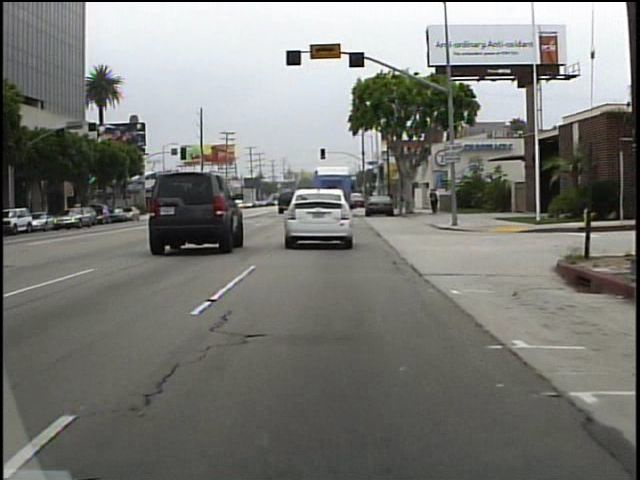person: (427, 187, 439, 217), (434, 187, 443, 213)
